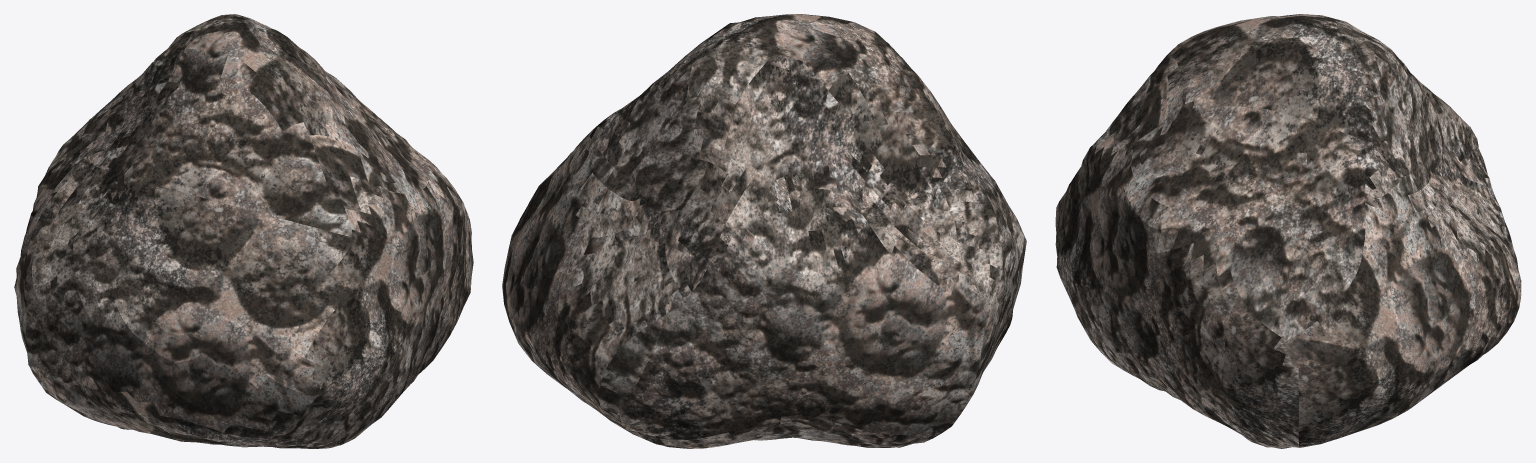
File: asteroid3.glb
3 renders of one model, left to right at view 1: azimuth 30°, elevation 25°; view 2: azimuth 150°, elevation 25°; view 3: azimuth 270°, elevation 25°, orthographic. The views are drawn at different scales.
Visible parts, largest first — view 1: rock.003; view 2: rock.003; view 3: rock.003.
Part boxes in pixels (<box>): rock.003: <box>14,14,473,448</box>; rock.003: <box>502,14,1026,448</box>; rock.003: <box>1055,14,1521,448</box>.
Bounding box in the file's own units: 1.12 × 0.9652 × 1.08.
Materials: 1 (1 with a texture image).
